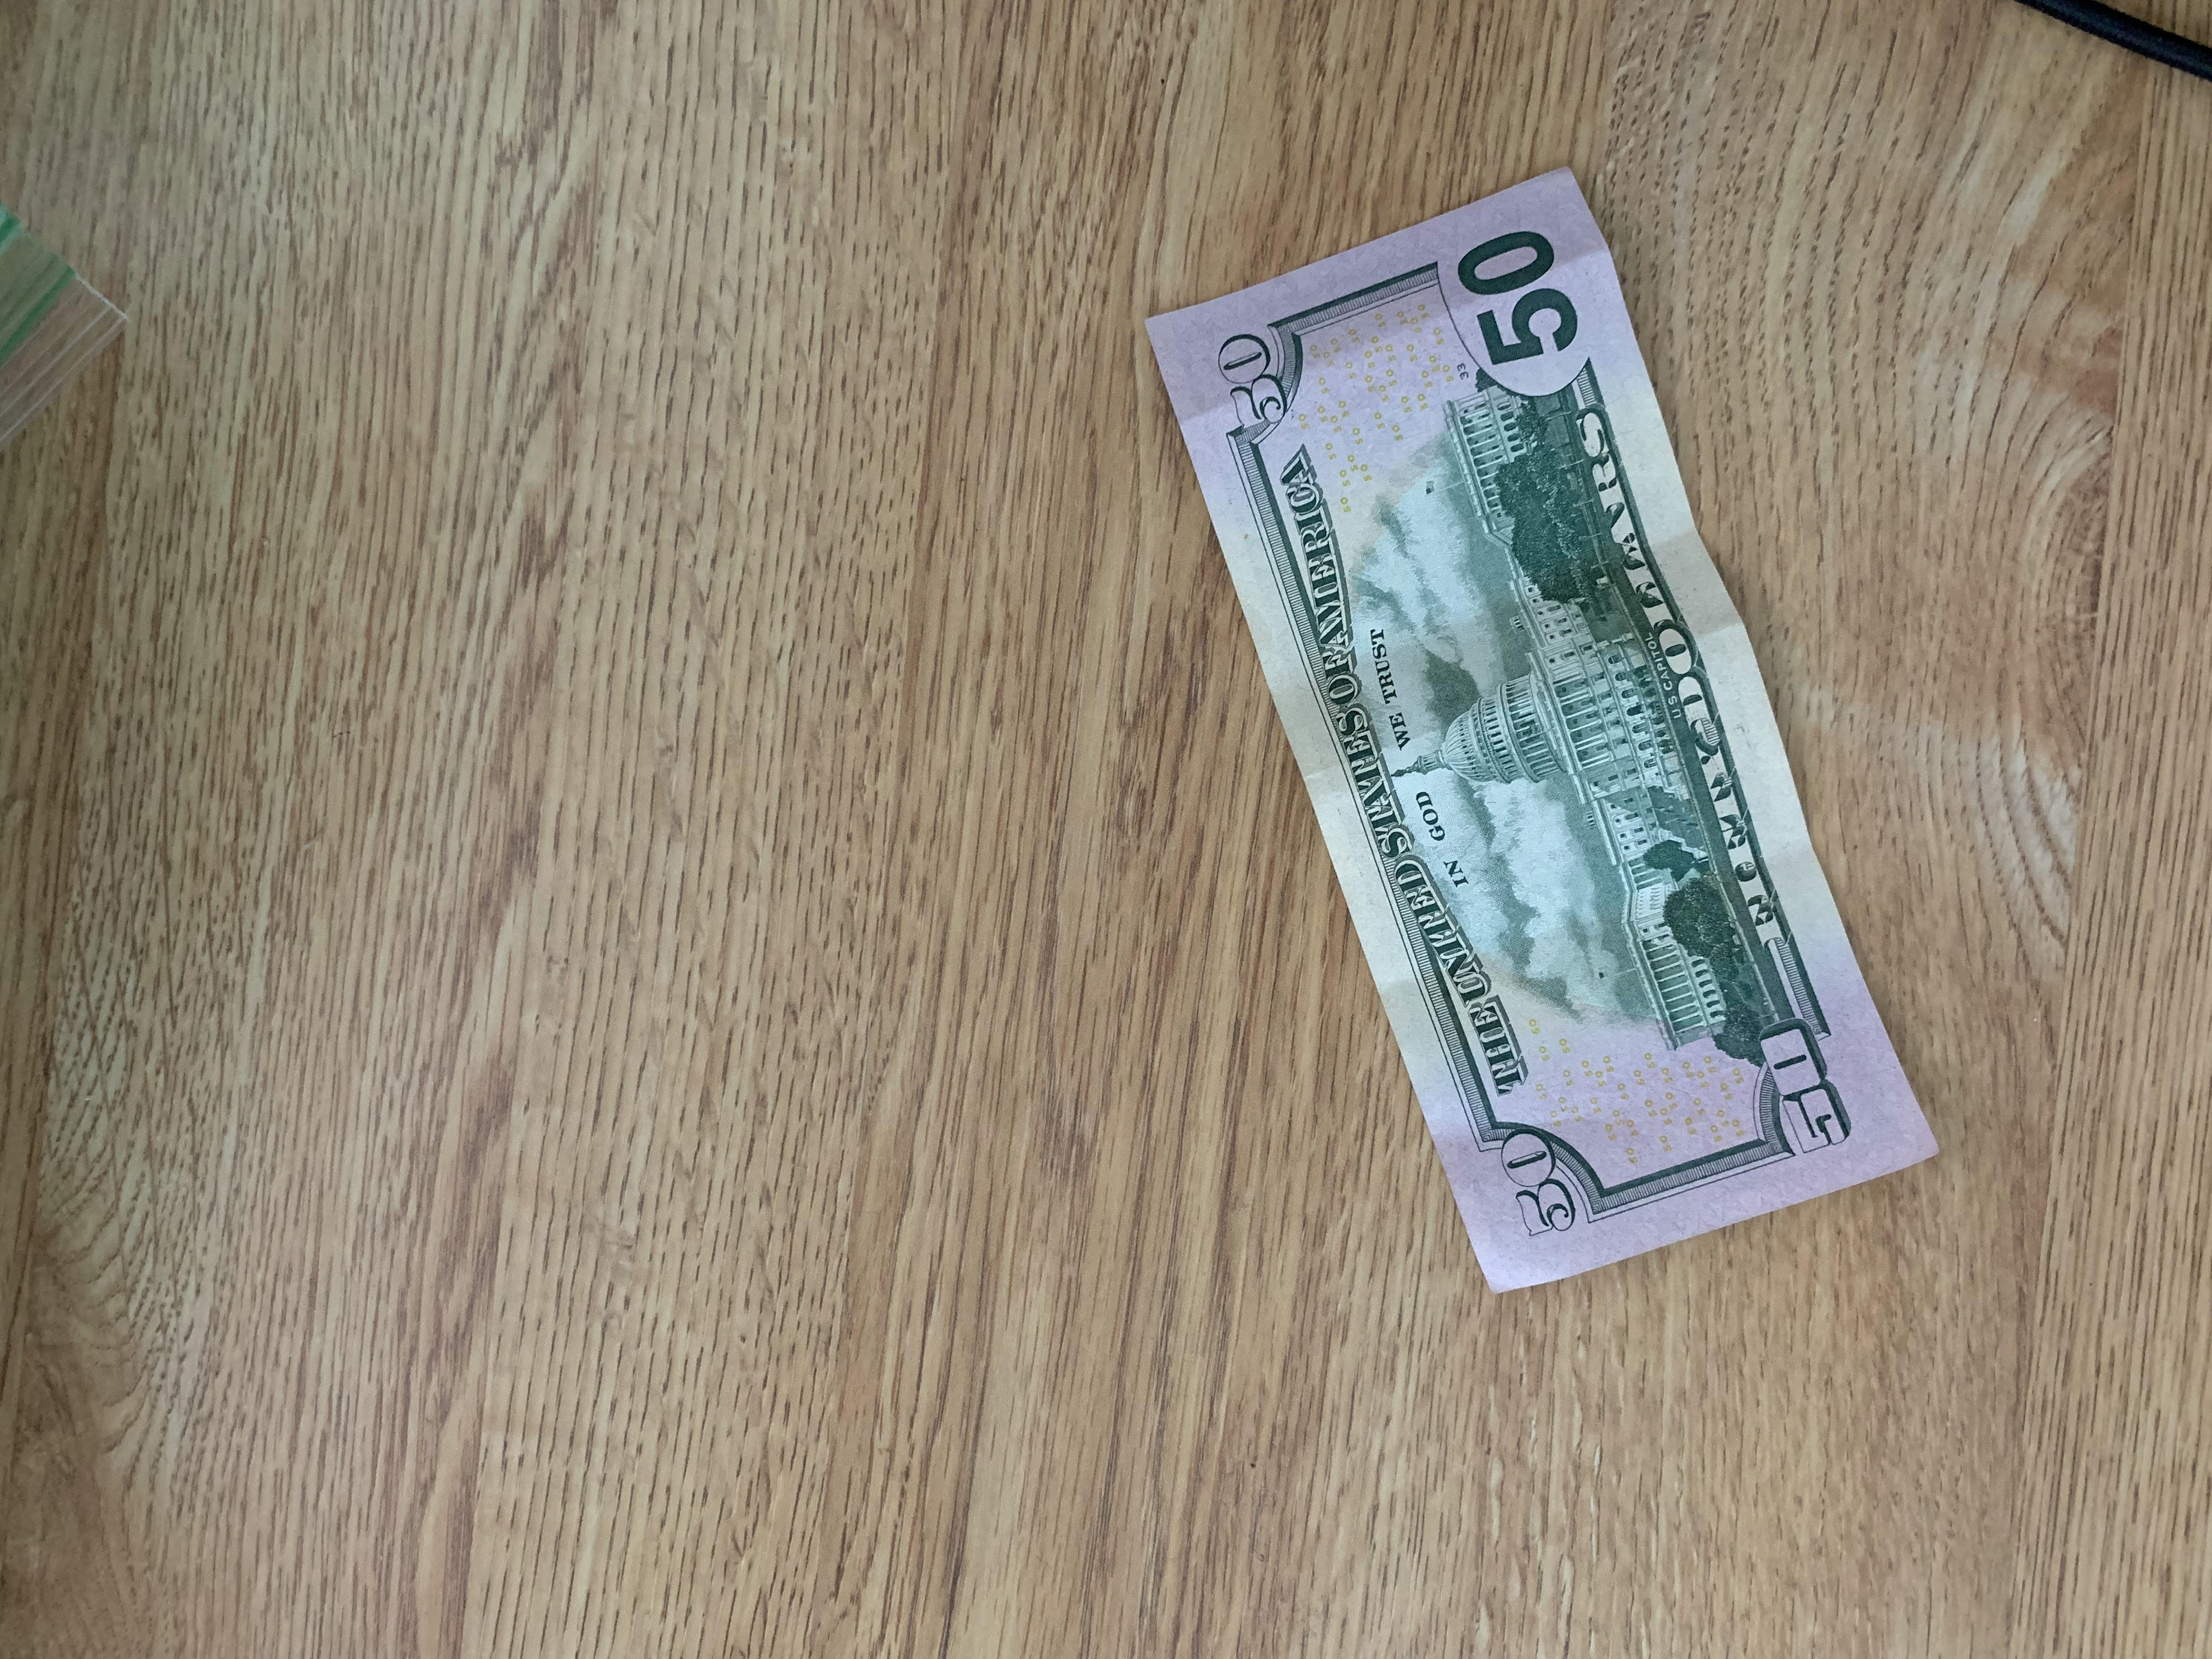FiftyBill: (1141, 150, 1947, 1302)
